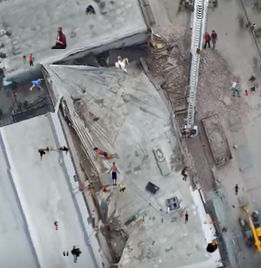Human: (33, 146, 69, 161), (85, 183, 126, 196), (28, 75, 52, 92), (93, 147, 120, 161), (51, 27, 67, 49), (107, 162, 121, 186), (203, 30, 218, 50), (115, 53, 129, 74), (228, 78, 241, 98), (206, 239, 224, 253), (100, 198, 109, 224), (71, 245, 82, 263), (133, 216, 155, 224), (23, 54, 35, 66), (181, 166, 189, 181), (85, 5, 96, 15), (159, 205, 171, 214), (89, 210, 95, 226), (233, 184, 240, 195), (184, 211, 189, 224), (195, 48, 202, 56), (54, 219, 59, 230), (203, 221, 221, 224), (0, 22, 9, 26), (63, 251, 70, 256), (244, 237, 248, 245), (243, 90, 248, 96), (107, 226, 112, 232), (202, 143, 205, 149), (225, 30, 227, 36), (231, 205, 235, 208), (66, 79, 69, 83), (246, 15, 249, 19), (114, 242, 116, 247), (161, 218, 163, 223), (242, 257, 245, 260)
